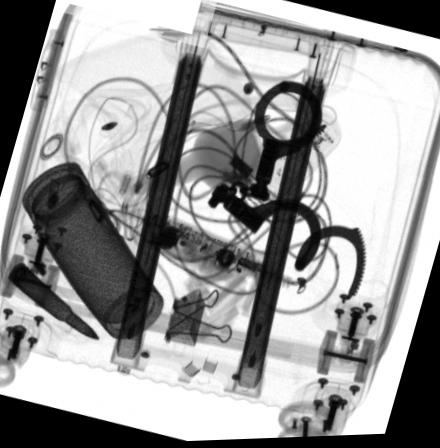Bullet: (3, 259, 99, 340)
HandCuffs: (205, 79, 366, 301)
